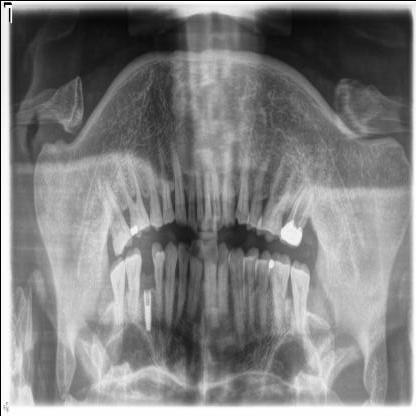Bicon: (139, 285, 153, 336)
